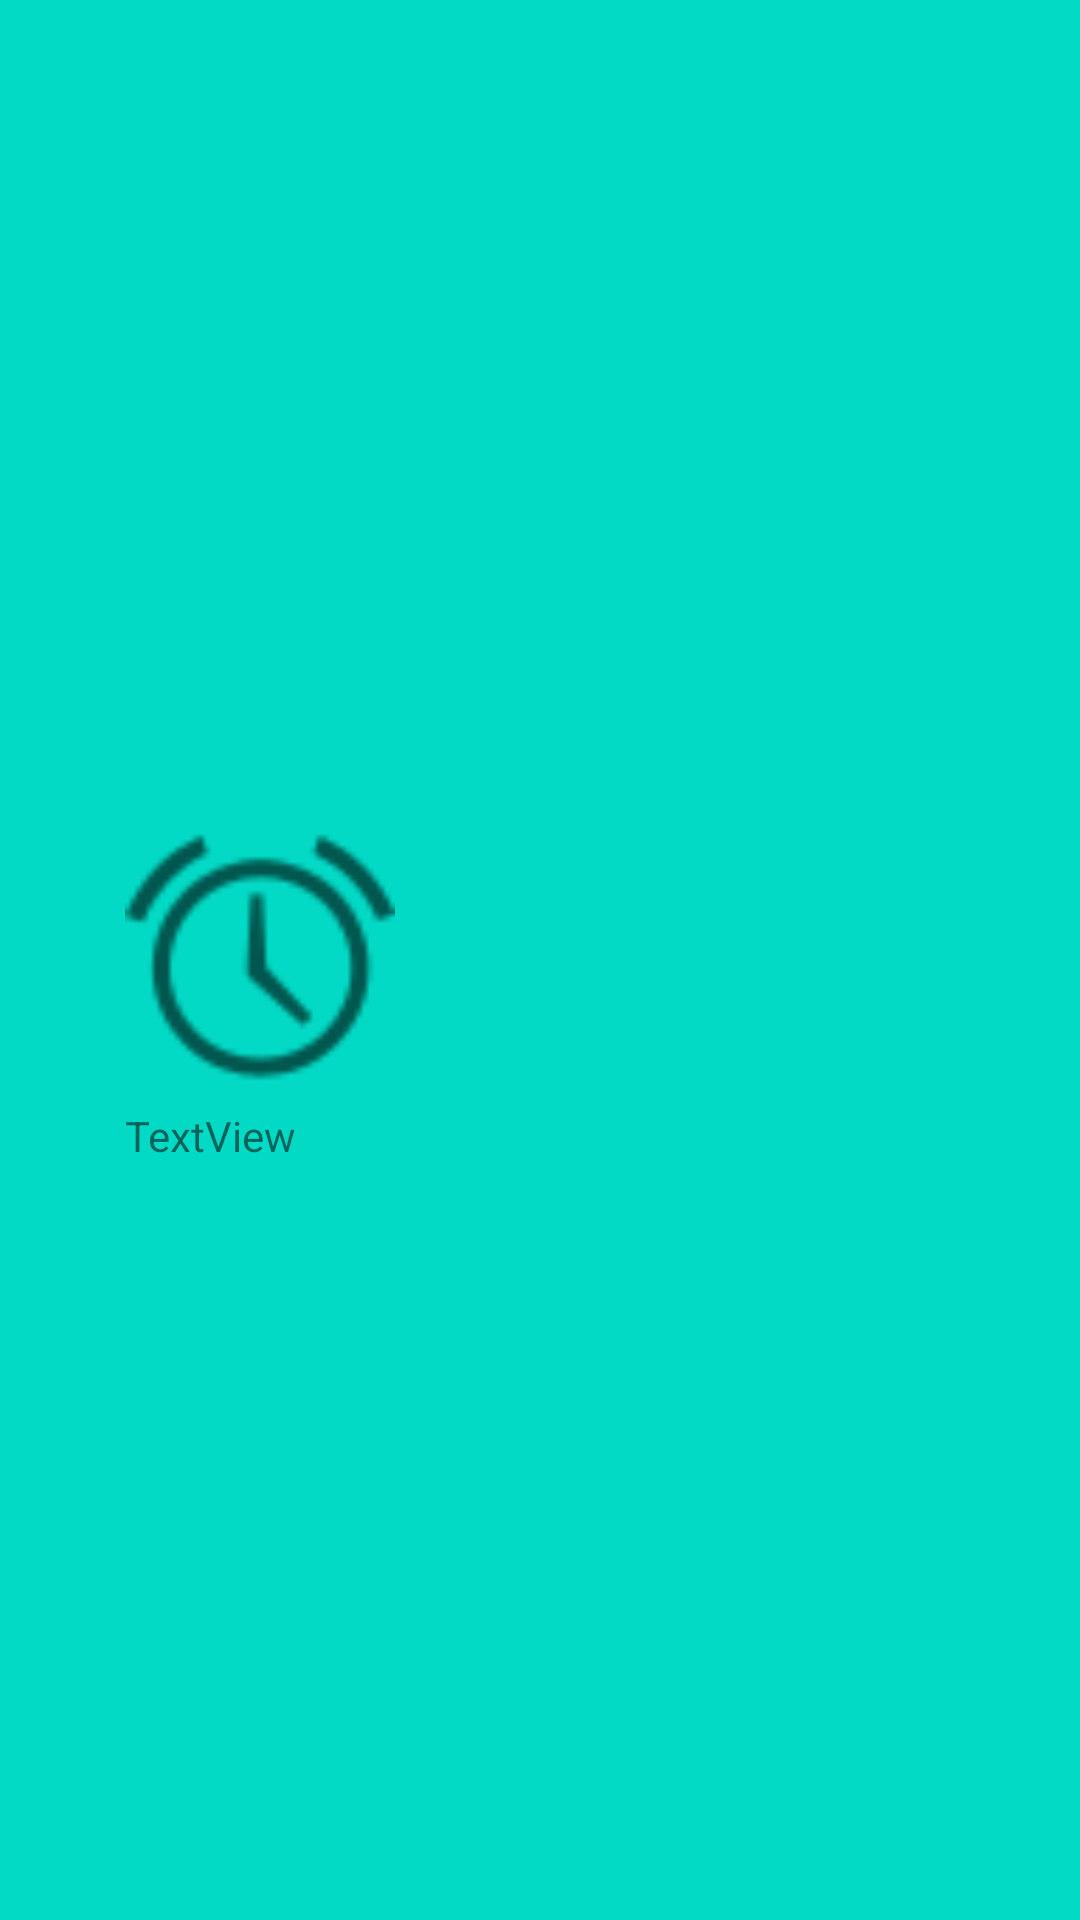

Icon click points for this 1080 x 1920 phone screenshot, format point (x, y):
lock idle alarm: point (260, 957)
